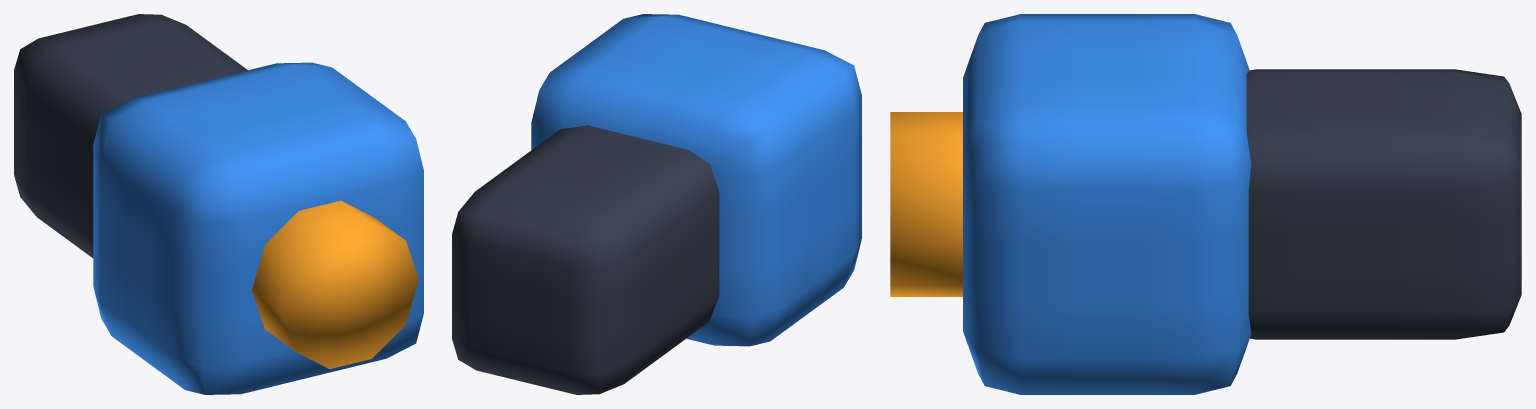
File: glove_jackhammer.obj
3 renders of one model, left to right at view 1: azimuth 30°, elevation 25°; view 2: azimuth 150°, elevation 25°; view 3: azimuth 270°, elevation 25°, orthographic. The views are drawn at different scales.
Bounding box in the file's own units: 0.32 × 0.3 × 0.61.
